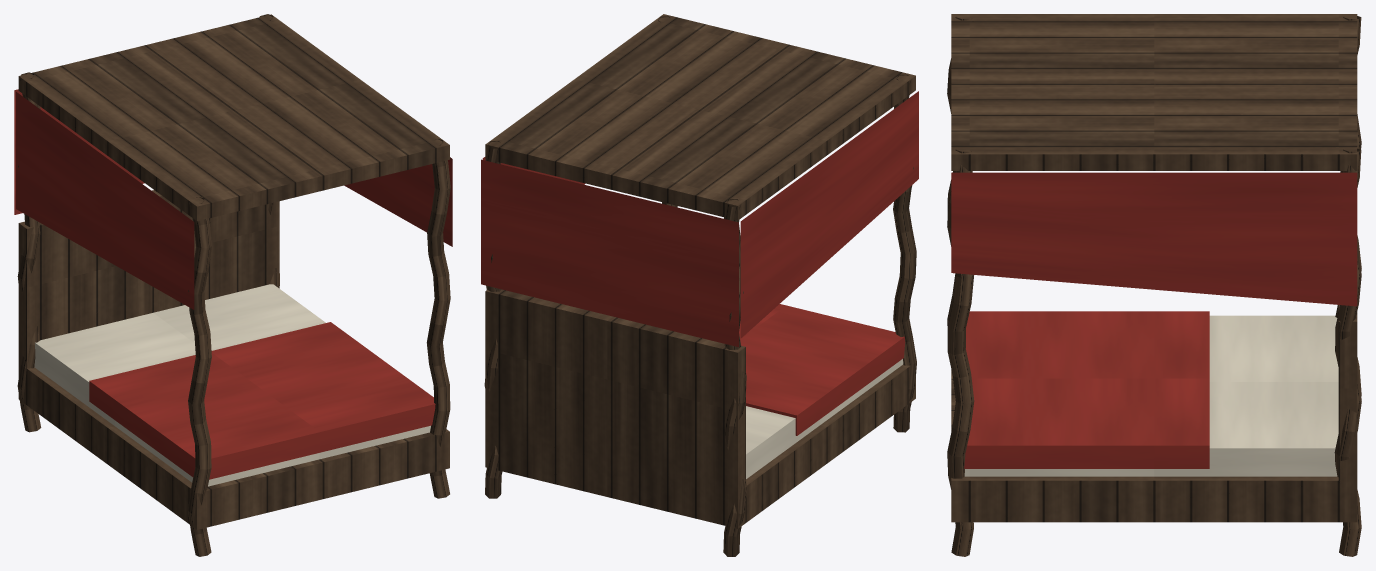
The model's file is Bed_Canopy_1.gltf.
3 views of the same model, side by side, from view 1: azimuth 30°, elevation 25°; view 2: azimuth 150°, elevation 25°; view 3: azimuth 270°, elevation 25° (orthographic). The views are drawn at different scales.
Parts seen in each view (by area): view 1: Bed_Canopy_1; view 2: Bed_Canopy_1; view 3: Bed_Canopy_1.
Part boxes in pixels (x1,y1,x2,y2): Bed_Canopy_1: (14,14,452,556); Bed_Canopy_1: (481,14,918,556); Bed_Canopy_1: (947,14,1361,556).
Bounding box in the file's own units: 1.84 × 2.42 × 2.25.
3 materials, 3 textured.
